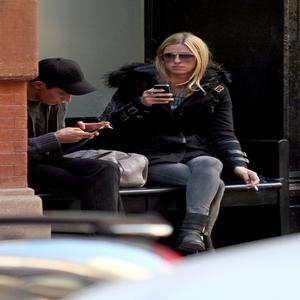cigarette: (248, 178, 261, 198), (102, 122, 116, 132)
